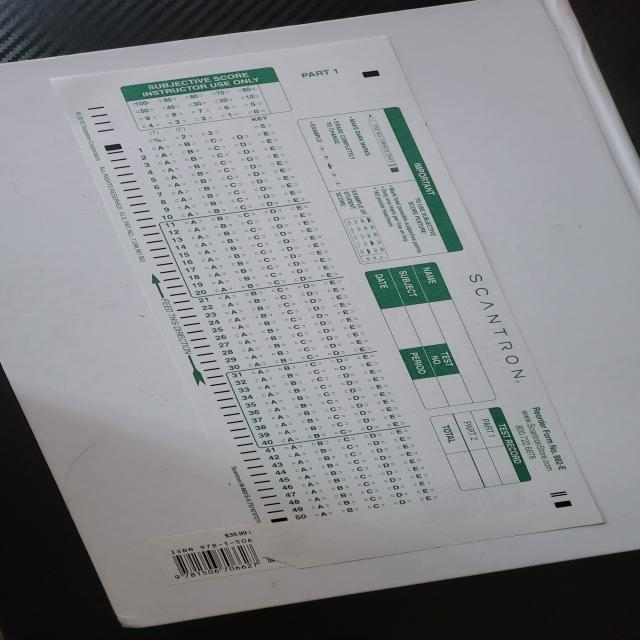scantron: (51, 34, 605, 569)
